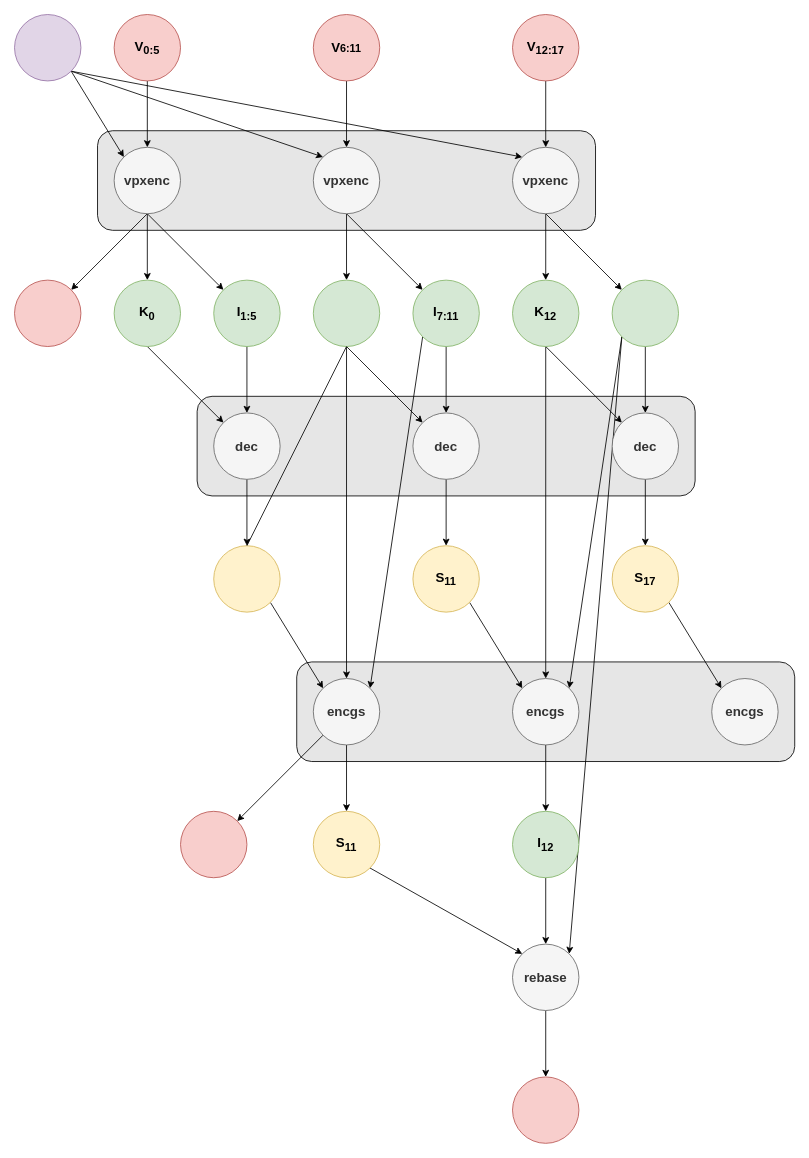
The diagram is 809 pixels wide and 1158 high, and some of its shapes have lost their labels. The box of each missing label's shape, as (x1, y1, x2, y2) in pixels:
C 0: (14, 14, 81, 81)
I 13:17: (611, 279, 679, 347)
K 6: (312, 279, 380, 347)
S 5: (213, 545, 280, 612)
V' 0:5: (14, 279, 81, 347)
V' 12:17: (512, 1076, 579, 1143)
V' 6:11: (180, 810, 247, 878)
